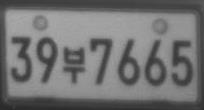3: (10, 36, 33, 82)
5: (171, 39, 193, 86)
6: (143, 39, 167, 86), (117, 38, 140, 85)
7: (89, 37, 113, 85)
9: (35, 37, 58, 83)
부: (62, 45, 85, 84)
